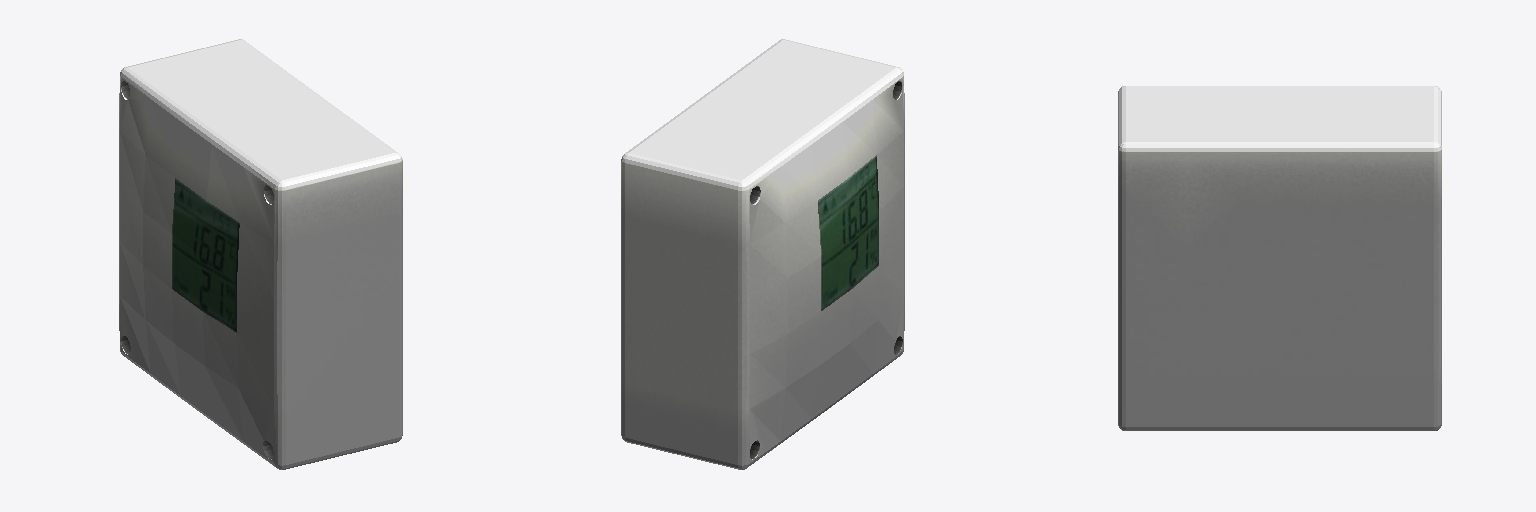
3 renders of one model, left to right at view 1: azimuth 30°, elevation 25°; view 2: azimuth 150°, elevation 25°; view 3: azimuth 270°, elevation 25°, orthographic.
Visible parts, largest first — view 1: ChamferBox02; view 2: ChamferBox02; view 3: ChamferBox02.
Boxes of the visible parts, <box> form: ChamferBox02: <box>119,39,402,469</box>; ChamferBox02: <box>621,39,904,469</box>; ChamferBox02: <box>1118,86,1441,430</box>.
Bounding box in the file's own units: 5.14 × 10.34 × 10.52.
1 materials, 1 textured.